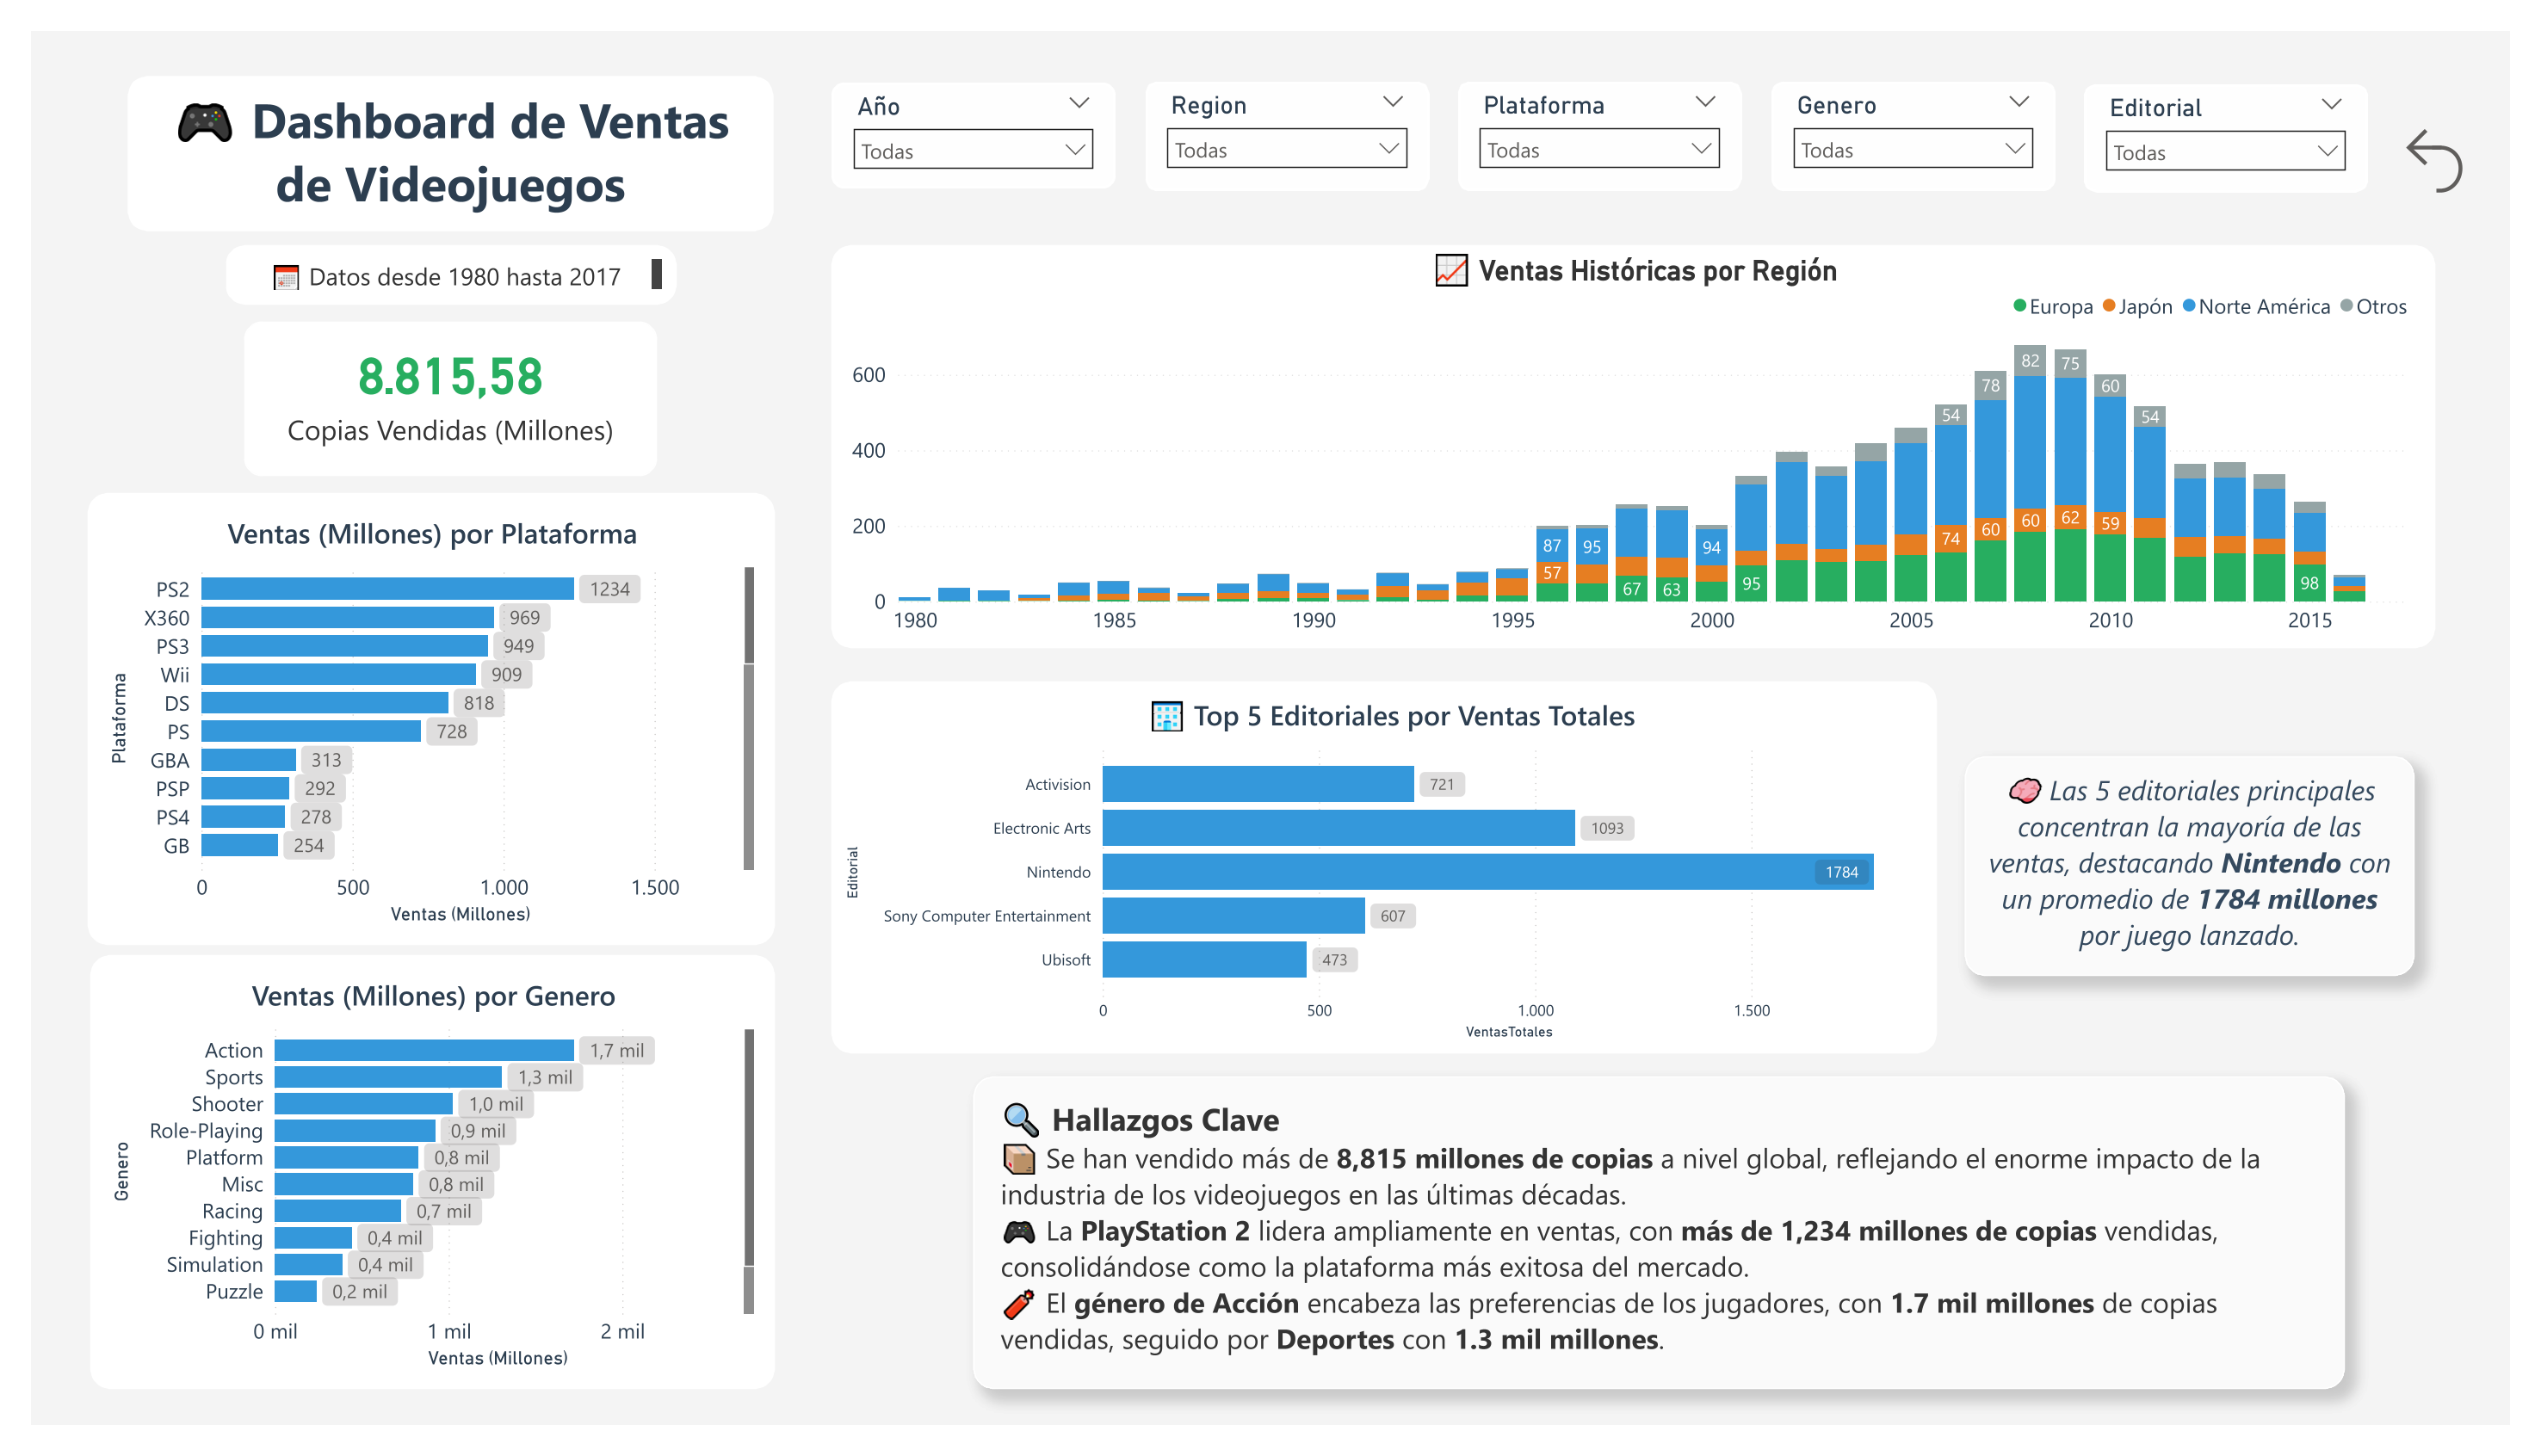

What the dashboard file says about the page in this screenshot:
{"tool":"powerbi","page":{"name":"Principal","canvas":[1920,1080],"ordinal":0},"visuals":[{"type":"card","fields":{"Values":["Sum(Ventas Videojuegos.Ventas (Millones))"]},"box":[165,225,320,120],"z":0},{"type":"columnChart","title":"📈 Ventas Históricas por Región","fields":{"Category":["Ventas Videojuegos.Año"],"Y":["Sum(Ventas Videojuegos.Ventas (Millones))"],"Series":["Ventas Videojuegos.Region"]},"box":[620,166,1242,312],"z":1000},{"type":"barChart","fields":{"Y":["Sum(Ventas Videojuegos.Ventas (Millones))"],"Category":["Ventas Videojuegos.Plataforma"]},"box":[43.8,357.5,532.5,350],"z":2000},{"type":"barChart","fields":{"Y":["Sum(Ventas Videojuegos.Ventas (Millones))"],"Category":["Ventas Videojuegos.Genero"]},"box":[46,716,530,336],"z":3000},{"type":"slicer","fields":{"Values":["Ventas Videojuegos.Año"]},"box":[620,39.8,220,82.5],"z":4000},{"type":"slicer","fields":{"Values":["Ventas Videojuegos.Region"]},"box":[862.5,38.7,220,85.5],"z":5000},{"type":"slicer","fields":{"Values":["Ventas Videojuegos.Plataforma"]},"box":[1105,38.7,220,85.5],"z":6000},{"type":"slicer","fields":{"Values":["Ventas Videojuegos.Genero"]},"box":[1347.5,38.9,220,85],"z":7000},{"type":"slicer","fields":{"Values":["Ventas Videojuegos.Editorial"]},"box":[1590,41.3,220,84],"z":8000},{"type":"textbox","box":[75,35,500,120],"z":9000},{"type":"actionButton","box":[1830,65,62.5,70],"z":10000},{"type":"barChart","title":"🏢 Top 5 Editoriales por Ventas Totales","fields":{"Category":["Ventas_Videojuegos.Editorial"],"Y":["Medidas.VentasTotales"]},"box":[620,504,856,288],"z":11000},{"type":"textbox","box":[1498,562,348,170],"z":12000},{"type":"textbox","box":[151.1,165.6,348.9,46.7],"z":13000},{"type":"textbox","box":[730,810,1062,242],"z":13001}]}

Visuals, with their boxes in screenshot pixels (x1, y1, x2, y2), scaled from the page's 1920x1080 canvas onto the 2541x1456 screenshot:
card - Sum(Ventas Videojuegos.Ventas (Millones)): (219, 303, 642, 465)
"📈 Ventas Históricas por Región" columnChart: (820, 224, 2464, 645)
barChart - Sum(Ventas Videojuegos.Ventas (Millones)) x Ventas Videojuegos.Plataforma: (58, 482, 763, 953)
barChart - Sum(Ventas Videojuegos.Ventas (Millones)) x Ventas Videojuegos.Genero: (61, 966, 763, 1418)
slicer - Ventas Videojuegos.Año: (820, 53, 1112, 165)
slicer - Ventas Videojuegos.Region: (1141, 52, 1432, 168)
slicer - Ventas Videojuegos.Plataforma: (1462, 52, 1753, 168)
slicer - Ventas Videojuegos.Genero: (1784, 52, 2074, 167)
slicer - Ventas Videojuegos.Editorial: (2105, 56, 2396, 169)
textbox: (99, 47, 761, 209)
actionButton: (2422, 88, 2505, 182)
"🏢 Top 5 Editoriales por Ventas Totales" barChart: (820, 680, 1953, 1068)
textbox: (1982, 757, 2443, 987)
textbox: (200, 223, 662, 287)
textbox: (966, 1092, 2371, 1418)
